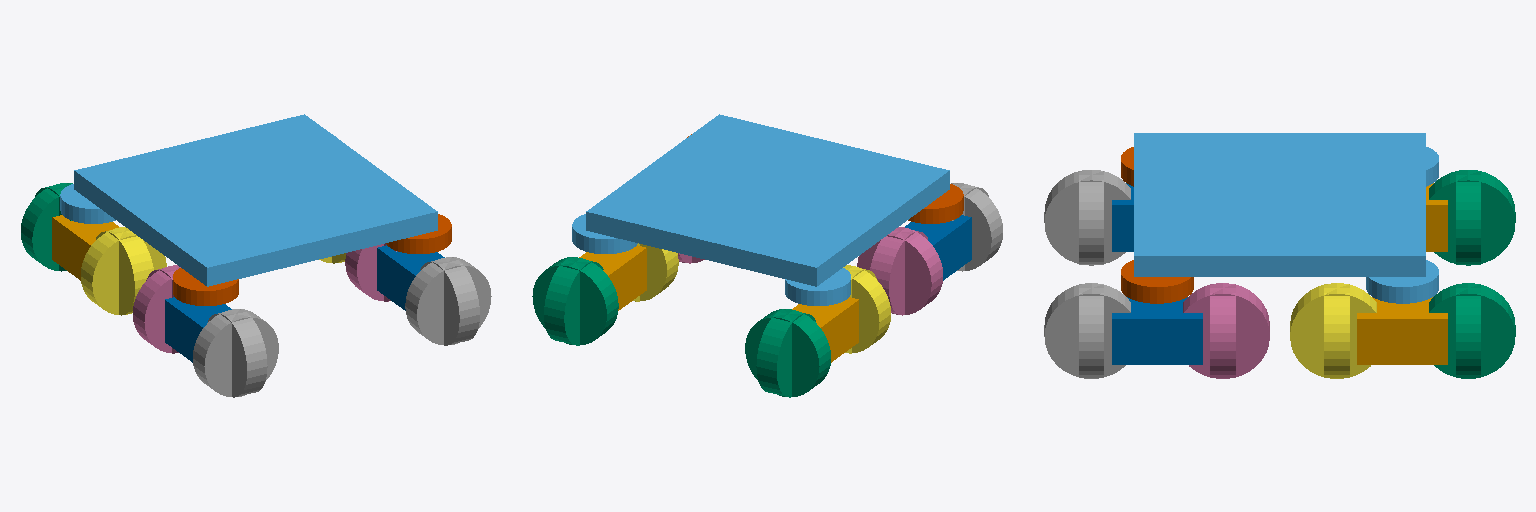
The robot description file, URDF, robot "wheelBOT":
<?xml version="1.0" encoding="UTF-8"?>
<robot name="wheelBOT">
  <joint name="FL_chassis_2_joint_01" type="fixed">
    <origin xyz="0. 0. -0.0985" rpy="0. 0. 0."/>
    <parent link="FL_steering_link"/>
    <child link="FL_chassis_2_link"/>
  </joint>
  <joint name="FL_drive_left_joint_01" type="continuous">
    <origin xyz="0. 0.115 0. " rpy="0. 0. 1.5707964"/>
    <parent link="FL_chassis_2_link"/>
    <child link="FL_wheel_drive_left"/>
    <axis xyz="1. 0. 0."/>
  </joint>
  <joint name="FL_drive_right_joint_01" type="continuous">
    <origin xyz="0. -0.115 0. " rpy="0. 0. 1.5707964"/>
    <parent link="FL_chassis_2_link"/>
    <child link="FL_wheel_drive_right"/>
    <axis xyz="1. 0. 0."/>
  </joint>
  <joint name="FL_steering_joint_01" type="revolute">
    <origin xyz="0.235 0.215 -0.036" rpy="0. 0. 0."/>
    <parent link="chassis_link"/>
    <child link="FL_steering_link"/>
    <axis xyz="0. 0. 1."/>
    <limit lower="-0.9999999" upper="0.9999999" effort="100." velocity="5939047335254987724700441203225657344."/>
  </joint>
  <joint name="FR_chassis_2_joint_01" type="fixed">
    <origin xyz="0. 0. -0.0985" rpy="0. 0. 0."/>
    <parent link="FR_steering_link"/>
    <child link="FR_chassis_2_link"/>
  </joint>
  <joint name="FR_drive_left_joint_01" type="continuous">
    <origin xyz="0. 0.115 0. " rpy="0. 0. 1.5707964"/>
    <parent link="FR_chassis_2_link"/>
    <child link="FR_wheel_drive_left"/>
    <axis xyz="1. 0. 0."/>
  </joint>
  <joint name="FR_drive_right_joint_01" type="continuous">
    <origin xyz="0. -0.115 0. " rpy="0. 0. 1.5707964"/>
    <parent link="FR_chassis_2_link"/>
    <child link="FR_wheel_drive_right"/>
    <axis xyz="1. 0. 0."/>
  </joint>
  <joint name="FR_steering_joint_01" type="revolute">
    <origin xyz="0.235 -0.215 -0.036" rpy="0. 0. 0."/>
    <parent link="chassis_link"/>
    <child link="FR_steering_link"/>
    <axis xyz="0. 0. 1."/>
    <limit lower="-0.9999999" upper="0.9999999" effort="100." velocity="5939047335254987724700441203225657344."/>
  </joint>
  <joint name="RL_chassis_2_joint_01" type="fixed">
    <origin xyz="0. 0. -0.0985" rpy="0. 0. 0."/>
    <parent link="RL_steering_link"/>
    <child link="RL_chassis_2_link"/>
  </joint>
  <joint name="RL_drive_left_joint_01" type="continuous">
    <origin xyz="0. 0.115 0. " rpy="0. 0. 1.5707964"/>
    <parent link="RL_chassis_2_link"/>
    <child link="RL_wheel_drive_left"/>
    <axis xyz="1. 0. 0."/>
  </joint>
  <joint name="RL_drive_right_joint_01" type="continuous">
    <origin xyz="0. -0.115 0. " rpy="0. 0. 1.5707964"/>
    <parent link="RL_chassis_2_link"/>
    <child link="RL_wheel_drive_right"/>
    <axis xyz="1. 0. 0."/>
  </joint>
  <joint name="RL_steering_joint_01" type="revolute">
    <origin xyz="-0.235 0.215 -0.036" rpy="0. 0. 0."/>
    <parent link="chassis_link"/>
    <child link="RL_steering_link"/>
    <axis xyz="0. 0. 1."/>
    <limit lower="-0.9999999" upper="0.9999999" effort="100." velocity="5939047335254987724700441203225657344."/>
  </joint>
  <joint name="RR_chassis_2_joint_01" type="fixed">
    <origin xyz="0. 0. -0.0985" rpy="0. 0. 0."/>
    <parent link="RR_steering_link"/>
    <child link="RR_chassis_2_link"/>
  </joint>
  <joint name="RR_drive_left_joint_01" type="continuous">
    <origin xyz="0. 0.115 0. " rpy="0. 0. 1.5707964"/>
    <parent link="RR_chassis_2_link"/>
    <child link="RR_wheel_drive_left"/>
    <axis xyz="1. 0. 0."/>
  </joint>
  <joint name="RR_drive_right_joint_01" type="continuous">
    <origin xyz="0. -0.115 0. " rpy="0. 0. 1.5707964"/>
    <parent link="RR_chassis_2_link"/>
    <child link="RR_wheel_drive_right"/>
    <axis xyz="1. 0. 0."/>
  </joint>
  <joint name="RR_steering_joint_01" type="revolute">
    <origin xyz="-0.235 -0.215 -0.036" rpy="0. 0. 0."/>
    <parent link="chassis_link"/>
    <child link="RR_steering_link"/>
    <axis xyz="0. 0. 1."/>
    <limit lower="-0.9999999" upper="0.9999999" effort="100." velocity="5939047335254987724700441203225657344."/>
  </joint>
  <joint name="chassis_joint" type="fixed">
    <origin xyz="-0.2 -0.1 0.217" rpy="0. 0. 0."/>
    <parent link="World"/>
    <child link="chassis_link"/>
  </joint>
  <link name="FL_chassis_2_link">
    <inertial>
      <origin xyz="0. 0. 0." rpy="0. 0. 0."/>
      <mass value="5."/>
      <inertia ixx="0." ixy="0." ixz="0." iyy="0." iyz="0." izz="0."/>
    </inertial>
    <visual>
      <origin xyz="0. 0. 0." rpy="0. 0. 0."/>
      <geometry>
        <box size="0.09 0.16 0.09"/>
      </geometry>
    </visual>
    <collision>
      <origin xyz="0. 0. 0." rpy="0. 0. 0."/>
      <geometry>
        <box size="0.09 0.16 0.09"/>
      </geometry>
    </collision>
  </link>
  <link name="FL_steering_link">
    <inertial>
      <origin xyz="0. 0. 0." rpy="0. 0. 0."/>
      <mass value="0.000001"/>
      <inertia ixx="0." ixy="0." ixz="0." iyy="0." iyz="0." izz="0."/>
    </inertial>
    <visual>
      <origin xyz="0. 0. 0." rpy="0. 0. 0."/>
      <geometry>
        <cylinder radius="0.064" length="0.032"/>
      </geometry>
    </visual>
  </link>
  <link name="FL_wheel_drive_left">
    <inertial>
      <origin xyz="0. 0. 0." rpy="0. 0. 0."/>
      <mass value="0.3"/>
      <inertia ixx="0." ixy="0." ixz="0." iyy="0." iyz="0." izz="0."/>
    </inertial>
    <visual>
      <origin xyz="0. 0. 0." rpy="1.5707964 -0. 1.5707964"/>
      <geometry>
        <cylinder radius="0.0825" length="0.045"/>
      </geometry>
    </visual>
    <visual>
      <origin xyz="0. 0. 0." rpy="1.5707964 0. 0. "/>
      <geometry>
        <cylinder radius="0.0825" length="0.045"/>
      </geometry>
    </visual>
    <collision>
      <origin xyz="0. 0. 0." rpy="1.5707964 0. 0. "/>
      <geometry>
        <cylinder radius="0.0825" length="0.045"/>
      </geometry>
    </collision>
  </link>
  <link name="FL_wheel_drive_right">
    <inertial>
      <origin xyz="0. 0. 0." rpy="0. 0. 0."/>
      <mass value="0.3"/>
      <inertia ixx="0." ixy="0." ixz="0." iyy="0." iyz="0." izz="0."/>
    </inertial>
    <visual>
      <origin xyz="0. 0. 0." rpy="1.5707964 -0. 1.5707964"/>
      <geometry>
        <cylinder radius="0.0825" length="0.045"/>
      </geometry>
    </visual>
    <visual>
      <origin xyz="0. 0. 0." rpy="1.5707964 0. 0. "/>
      <geometry>
        <cylinder radius="0.0825" length="0.045"/>
      </geometry>
    </visual>
    <collision>
      <origin xyz="0. 0. 0." rpy="1.5707964 0. 0. "/>
      <geometry>
        <cylinder radius="0.0825" length="0.045"/>
      </geometry>
    </collision>
  </link>
  <link name="FR_chassis_2_link">
    <inertial>
      <origin xyz="0. 0. 0." rpy="0. 0. 0."/>
      <mass value="5."/>
      <inertia ixx="0." ixy="0." ixz="0." iyy="0." iyz="0." izz="0."/>
    </inertial>
    <visual>
      <origin xyz="0. 0. 0." rpy="0. 0. 0."/>
      <geometry>
        <box size="0.09 0.16 0.09"/>
      </geometry>
    </visual>
    <collision>
      <origin xyz="0. 0. 0." rpy="0. 0. 0."/>
      <geometry>
        <box size="0.09 0.16 0.09"/>
      </geometry>
    </collision>
  </link>
  <link name="FR_steering_link">
    <inertial>
      <origin xyz="0. 0. 0." rpy="0. 0. 0."/>
      <mass value="0.000001"/>
      <inertia ixx="0." ixy="0." ixz="0." iyy="0." iyz="0." izz="0."/>
    </inertial>
    <visual>
      <origin xyz="0. 0. 0." rpy="0. 0. 0."/>
      <geometry>
        <cylinder radius="0.064" length="0.032"/>
      </geometry>
    </visual>
  </link>
  <link name="FR_wheel_drive_left">
    <inertial>
      <origin xyz="0. 0. 0." rpy="0. 0. 0."/>
      <mass value="0.3"/>
      <inertia ixx="0." ixy="0." ixz="0." iyy="0." iyz="0." izz="0."/>
    </inertial>
    <visual>
      <origin xyz="0. 0. 0." rpy="1.5707964 -0. 1.5707964"/>
      <geometry>
        <cylinder radius="0.0825" length="0.045"/>
      </geometry>
    </visual>
    <visual>
      <origin xyz="0. 0. 0." rpy="1.5707964 0. 0. "/>
      <geometry>
        <cylinder radius="0.0825" length="0.045"/>
      </geometry>
    </visual>
    <collision>
      <origin xyz="0. 0. 0." rpy="1.5707964 0. 0. "/>
      <geometry>
        <cylinder radius="0.0825" length="0.045"/>
      </geometry>
    </collision>
  </link>
  <link name="FR_wheel_drive_right">
    <inertial>
      <origin xyz="0. 0. 0." rpy="0. 0. 0."/>
      <mass value="0.3"/>
      <inertia ixx="0." ixy="0." ixz="0." iyy="0." iyz="0." izz="0."/>
    </inertial>
    <visual>
      <origin xyz="0. 0. 0." rpy="1.5707964 -0. 1.5707964"/>
      <geometry>
        <cylinder radius="0.0825" length="0.045"/>
      </geometry>
    </visual>
    <visual>
      <origin xyz="0. 0. 0." rpy="1.5707964 0. 0. "/>
      <geometry>
        <cylinder radius="0.0825" length="0.045"/>
      </geometry>
    </visual>
    <collision>
      <origin xyz="0. 0. 0." rpy="1.5707964 0. 0. "/>
      <geometry>
        <cylinder radius="0.0825" length="0.045"/>
      </geometry>
    </collision>
  </link>
  <link name="RL_chassis_2_link">
    <inertial>
      <origin xyz="0. 0. 0." rpy="0. 0. 0."/>
      <mass value="5."/>
      <inertia ixx="0." ixy="0." ixz="0." iyy="0." iyz="0." izz="0."/>
    </inertial>
    <visual>
      <origin xyz="0. 0. 0." rpy="0. 0. 0."/>
      <geometry>
        <box size="0.09 0.16 0.09"/>
      </geometry>
    </visual>
    <collision>
      <origin xyz="0. 0. 0." rpy="0. 0. 0."/>
      <geometry>
        <box size="0.09 0.16 0.09"/>
      </geometry>
    </collision>
  </link>
  <link name="RL_steering_link">
    <inertial>
      <origin xyz="0. 0. 0." rpy="0. 0. 0."/>
      <mass value="0.000001"/>
      <inertia ixx="0." ixy="0." ixz="0." iyy="0." iyz="0." izz="0."/>
    </inertial>
    <visual>
      <origin xyz="0. 0. 0." rpy="0. 0. 0."/>
      <geometry>
        <cylinder radius="0.064" length="0.032"/>
      </geometry>
    </visual>
  </link>
  <link name="RL_wheel_drive_left">
    <inertial>
      <origin xyz="0. 0. 0." rpy="0. 0. 0."/>
      <mass value="0.3"/>
      <inertia ixx="0." ixy="0." ixz="0." iyy="0." iyz="0." izz="0."/>
    </inertial>
    <visual>
      <origin xyz="0. 0. 0." rpy="1.5707964 -0. 1.5707964"/>
      <geometry>
        <cylinder radius="0.0825" length="0.045"/>
      </geometry>
    </visual>
    <visual>
      <origin xyz="0. 0. 0." rpy="1.5707964 0. 0. "/>
      <geometry>
        <cylinder radius="0.0825" length="0.045"/>
      </geometry>
    </visual>
    <collision>
      <origin xyz="0. 0. 0." rpy="1.5707964 0. 0. "/>
      <geometry>
        <cylinder radius="0.0825" length="0.045"/>
      </geometry>
    </collision>
  </link>
  <link name="RL_wheel_drive_right">
    <inertial>
      <origin xyz="0. 0. 0." rpy="0. 0. 0."/>
      <mass value="0.3"/>
      <inertia ixx="0." ixy="0." ixz="0." iyy="0." iyz="0." izz="0."/>
    </inertial>
    <visual>
      <origin xyz="0. 0. 0." rpy="1.5707964 -0. 1.5707964"/>
      <geometry>
        <cylinder radius="0.0825" length="0.045"/>
      </geometry>
    </visual>
    <visual>
      <origin xyz="0. 0. 0." rpy="1.5707964 0. 0. "/>
      <geometry>
        <cylinder radius="0.0825" length="0.045"/>
      </geometry>
    </visual>
    <collision>
      <origin xyz="0. 0. 0." rpy="1.5707964 0. 0. "/>
      <geometry>
        <cylinder radius="0.0825" length="0.045"/>
      </geometry>
    </collision>
  </link>
  <link name="RR_chassis_2_link">
    <inertial>
      <origin xyz="0. 0. 0." rpy="0. 0. 0."/>
      <mass value="5."/>
      <inertia ixx="0." ixy="0." ixz="0." iyy="0." iyz="0." izz="0."/>
    </inertial>
    <visual>
      <origin xyz="0. 0. 0." rpy="0. 0. 0."/>
      <geometry>
        <box size="0.09 0.16 0.09"/>
      </geometry>
    </visual>
    <collision>
      <origin xyz="0. 0. 0." rpy="0. 0. 0."/>
      <geometry>
        <box size="0.09 0.16 0.09"/>
      </geometry>
    </collision>
  </link>
  <link name="RR_steering_link">
    <inertial>
      <origin xyz="0. 0. 0." rpy="0. 0. 0."/>
      <mass value="0.000001"/>
      <inertia ixx="0." ixy="0." ixz="0." iyy="0." iyz="0." izz="0."/>
    </inertial>
    <visual>
      <origin xyz="0. 0. 0." rpy="0. 0. 0."/>
      <geometry>
        <cylinder radius="0.064" length="0.032"/>
      </geometry>
    </visual>
  </link>
  <link name="RR_wheel_drive_left">
    <inertial>
      <origin xyz="0. 0. 0." rpy="0. 0. 0."/>
      <mass value="0.3"/>
      <inertia ixx="0." ixy="0." ixz="0." iyy="0." iyz="0." izz="0."/>
    </inertial>
    <visual>
      <origin xyz="0. 0. 0." rpy="1.5707964 -0. 1.5707964"/>
      <geometry>
        <cylinder radius="0.0825" length="0.045"/>
      </geometry>
    </visual>
    <visual>
      <origin xyz="0. 0. 0." rpy="1.5707964 0. 0. "/>
      <geometry>
        <cylinder radius="0.0825" length="0.045"/>
      </geometry>
    </visual>
    <collision>
      <origin xyz="0. 0. 0." rpy="1.5707964 0. 0. "/>
      <geometry>
        <cylinder radius="0.0825" length="0.045"/>
      </geometry>
    </collision>
  </link>
  <link name="RR_wheel_drive_right">
    <inertial>
      <origin xyz="0. 0. 0." rpy="0. 0. 0."/>
      <mass value="0.3"/>
      <inertia ixx="0." ixy="0." ixz="0." iyy="0." iyz="0." izz="0."/>
    </inertial>
    <visual>
      <origin xyz="0. 0. 0." rpy="1.5707964 -0. 1.5707964"/>
      <geometry>
        <cylinder radius="0.0825" length="0.045"/>
      </geometry>
    </visual>
    <visual>
      <origin xyz="0. 0. 0." rpy="1.5707964 0. 0. "/>
      <geometry>
        <cylinder radius="0.0825" length="0.045"/>
      </geometry>
    </visual>
    <collision>
      <origin xyz="0. 0. 0." rpy="1.5707964 0. 0. "/>
      <geometry>
        <cylinder radius="0.0825" length="0.045"/>
      </geometry>
    </collision>
  </link>
  <link name="World">
    <visual>
      <origin xyz="0. 0. 0." rpy="0. 0. 0."/>
      <geometry>
        <mesh filename="meshes/CollisionMesh.obj" scale="1. 1. 1."/>
      </geometry>
    </visual>
  </link>
  <link name="chassis_link">
    <inertial>
      <origin xyz="0. 0. 0." rpy="0. 0. 0."/>
      <mass value="5."/>
      <inertia ixx="0." ixy="0." ixz="0." iyy="0." iyz="0." izz="0."/>
    </inertial>
    <visual>
      <origin xyz="0. 0. 0." rpy="0. 0. 0."/>
      <geometry>
        <box size="0.51 0.51 0.04"/>
      </geometry>
    </visual>
    <collision>
      <origin xyz="0. 0. 0." rpy="0. 0. 0."/>
      <geometry>
        <box size="0.51 0.51 0.04"/>
      </geometry>
    </collision>
  </link>
</robot>

--- Render facts (derived) ---
The picture shows the robot from 3 angles, left to right: view 1: azimuth 30°, elevation 25°; view 2: azimuth 150°, elevation 25°; view 3: azimuth 270°, elevation 25°; orthographic projection.
Robot: wheelBOT — 18 links, 17 joints (4 revolute, 8 continuous, 5 fixed); root link World; default pose: every joint at zero.
Links seen in each view (by area): view 1: chassis_link, RR_wheel_drive_right, FR_wheel_drive_right, RL_wheel_drive_right, RR_wheel_drive_left, RL_wheel_drive_left, RL_chassis_2_link, FR_chassis_2_link, RR_chassis_2_link, RR_steering_link, FR_wheel_drive_left, FR_steering_link (+1 smaller); view 2: chassis_link, RL_wheel_drive_left, FL_wheel_drive_left, RR_wheel_drive_left, RL_wheel_drive_right, RR_wheel_drive_right, RR_chassis_2_link, FL_chassis_2_link, RL_chassis_2_link, RL_steering_link, FL_wheel_drive_right, FL_steering_link (+1 smaller); view 3: chassis_link, RL_wheel_drive_left, RR_wheel_drive_right, FL_wheel_drive_left, FR_wheel_drive_right, FL_wheel_drive_right, FR_wheel_drive_left, FL_chassis_2_link, FR_chassis_2_link, FL_steering_link, FR_steering_link, RL_chassis_2_link (+1 smaller).
Link boxes in pixels (x1,y1,x2,y2): chassis_link: (74,114,437,286); RR_wheel_drive_right: (193,309,278,397); FR_wheel_drive_right: (405,257,491,345); RL_wheel_drive_right: (81,227,166,315); RR_wheel_drive_left: (133,265,182,353); RL_wheel_drive_left: (21,183,72,271); RL_chassis_2_link: (52,215,118,280); FR_chassis_2_link: (377,245,444,310); RR_chassis_2_link: (165,297,231,362); RR_steering_link: (173,268,238,305); FR_wheel_drive_left: (345,243,396,301); FR_steering_link: (386,214,451,253); chassis_link: (586,114,949,286); RL_wheel_drive_left: (745,309,830,397); FL_wheel_drive_left: (532,257,618,345); RR_wheel_drive_left: (857,227,942,315); RL_wheel_drive_right: (841,265,890,353); RR_wheel_drive_right: (951,183,1002,271); RR_chassis_2_link: (905,215,971,280); FL_chassis_2_link: (579,245,646,310); RL_chassis_2_link: (792,297,858,362); RL_steering_link: (785,268,850,305); FL_wheel_drive_right: (627,243,678,301); FL_steering_link: (572,214,637,253); chassis_link: (1134,133,1425,276); RL_wheel_drive_left: (1429,170,1515,265); RR_wheel_drive_right: (1044,170,1130,265); FL_wheel_drive_left: (1429,283,1515,378); FR_wheel_drive_right: (1044,283,1130,378); FL_wheel_drive_right: (1290,283,1376,378); FR_wheel_drive_left: (1183,283,1269,378); FL_chassis_2_link: (1357,297,1447,364); FR_chassis_2_link: (1112,297,1202,364); FL_steering_link: (1366,260,1438,303); FR_steering_link: (1121,260,1193,303); RL_chassis_2_link: (1426,183,1447,251).
Bounding box of the posed robot: 0.635 × 0.825 × 0.237 m (x, y, z).
Meshes: 1 distinct files referenced, 0 mesh visuals loaded (none loaded); not drawn: 1 (file found but could not be loaded).
